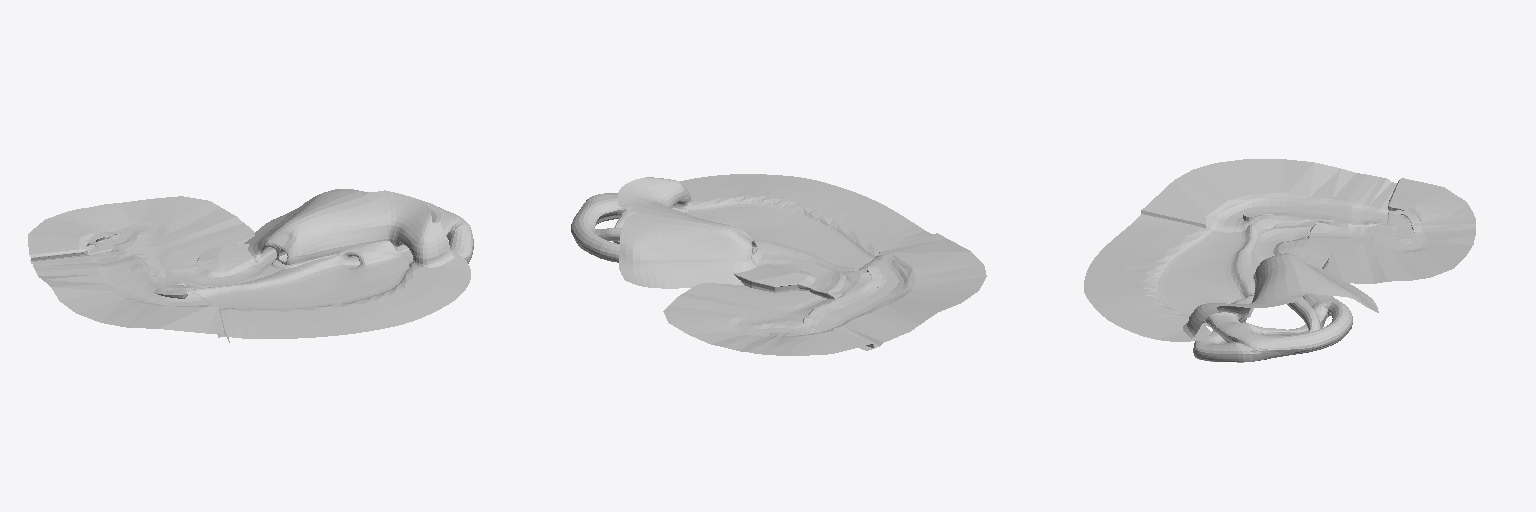
The model's file is big_terrain_03.obj.
3 views of the same model, side by side, from view 1: azimuth 30°, elevation 25°; view 2: azimuth 150°, elevation 25°; view 3: azimuth 270°, elevation 25° (orthographic).
Visible parts, largest first — view 1: desert_03, start39, half_pipe_02, finish_part_01; view 2: desert_03, half_pipe_02, start39, finish_part_01; view 3: desert_03, half_pipe_02, start39, finish_part_01.
Part boxes in pixels (x1,y1,x2,y2): desert_03: (193,189,473,338); start39: (28,196,254,271); half_pipe_02: (30,250,229,342); finish_part_01: (152,244,282,287); desert_03: (571,174,932,288); half_pipe_02: (803,233,986,350); start39: (663,283,873,355); finish_part_01: (733,253,851,298); desert_03: (1084,214,1378,362); half_pipe_02: (1141,159,1396,237); start39: (1309,178,1475,283); finish_part_01: (1251,222,1328,269).
Bounding box in the file's own units: 202 × 23.56 × 175.